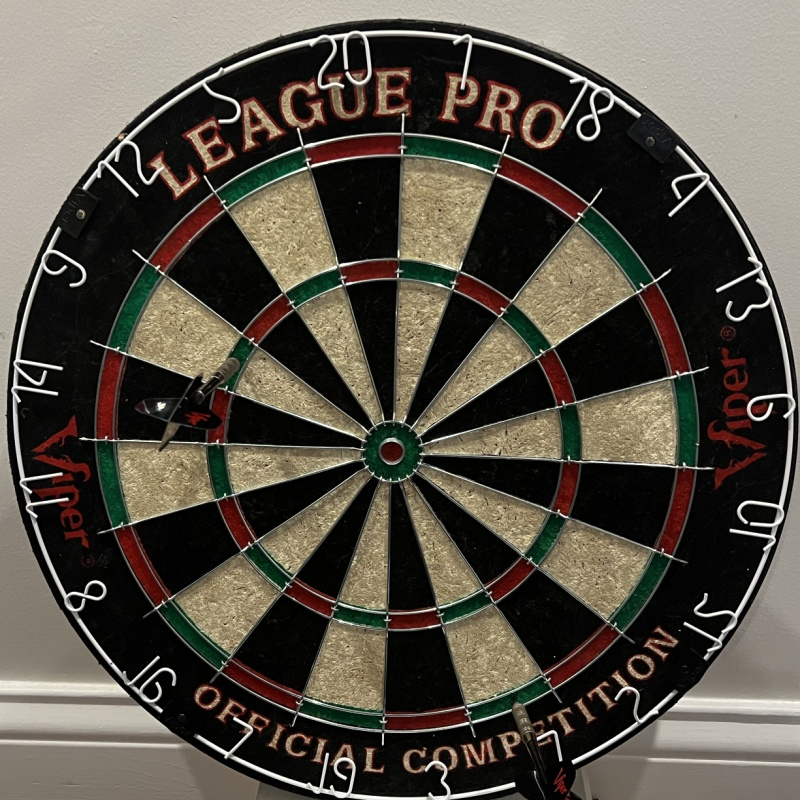dart: (508, 697, 533, 723), (220, 354, 245, 378)
eleven: (19, 471, 71, 518)
six: (748, 393, 798, 421)
three: (423, 760, 451, 800)
twenty: (313, 33, 374, 89)
